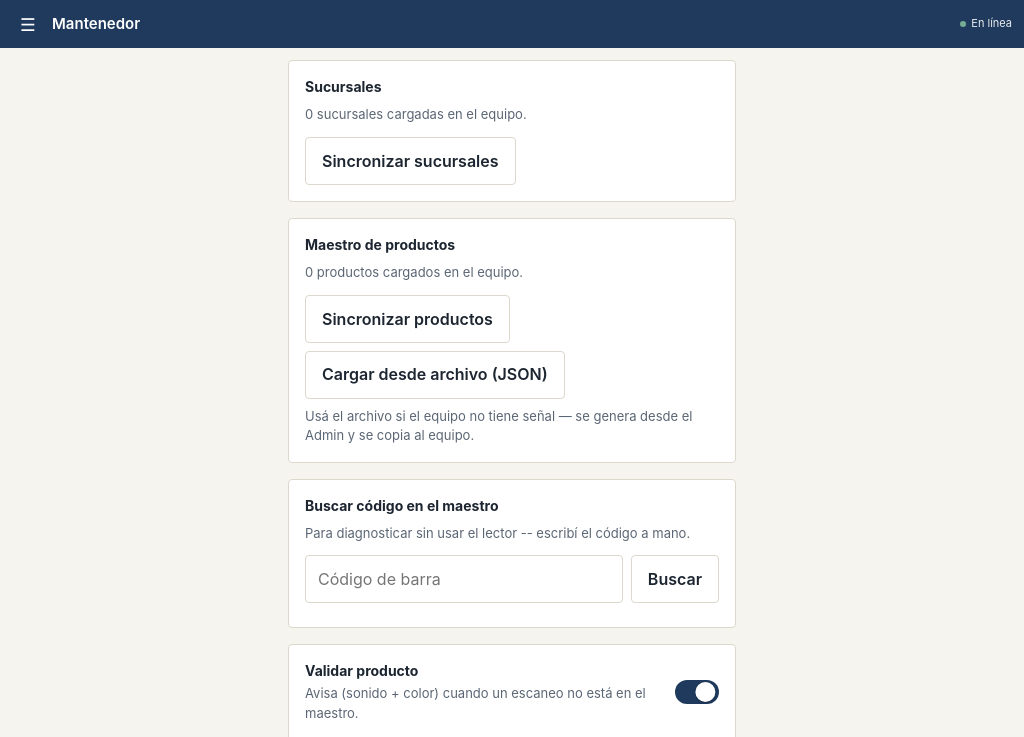
Scenario: MantenedorPage › buscar código encuentra un producto cacheado y lo muestra con su largo
Type "194435804293" into the field with placeholder "Código de barra" at {"x": 464, "y": 579}, box [305, 555, 623, 603]
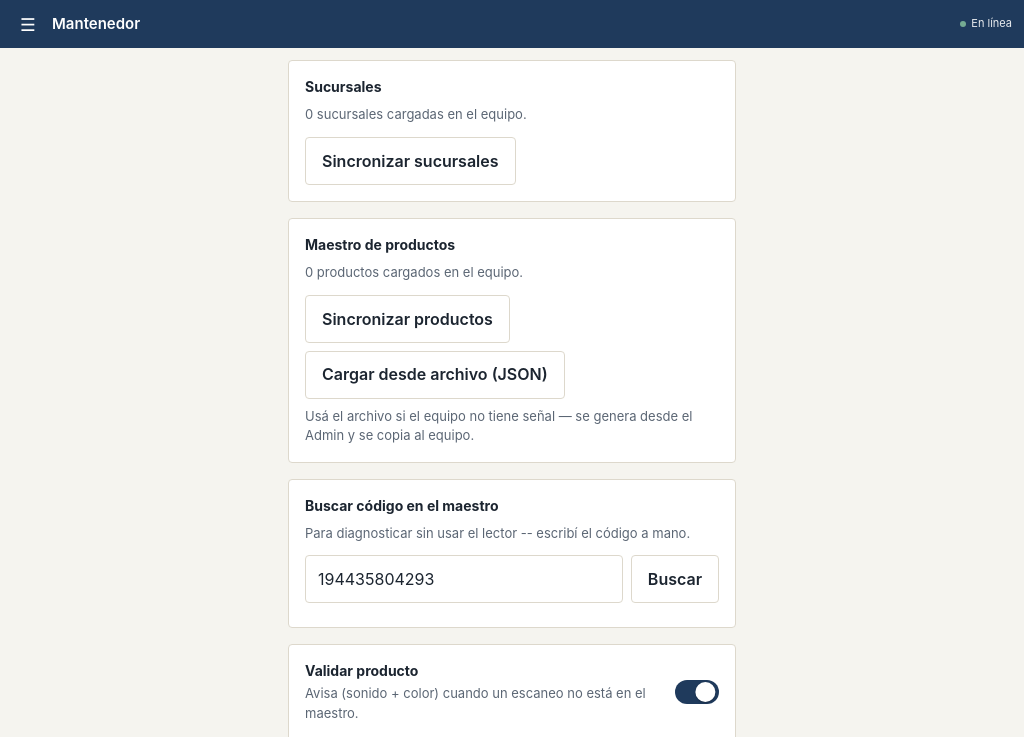
Click the button "Buscar" at {"x": 675, "y": 579}, box [631, 555, 719, 603]
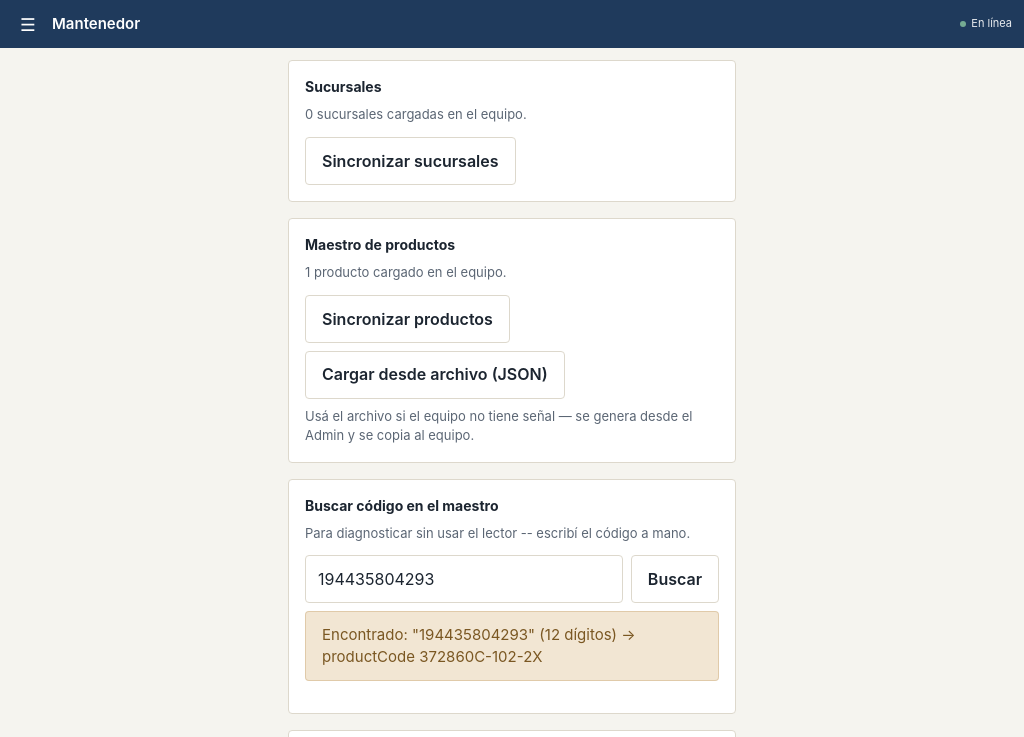
Expected: the text "Encontrado: \"194435804293\" (12 dígitos) → productCode 372860C-102-2X" is shown, [305, 611, 719, 681]
